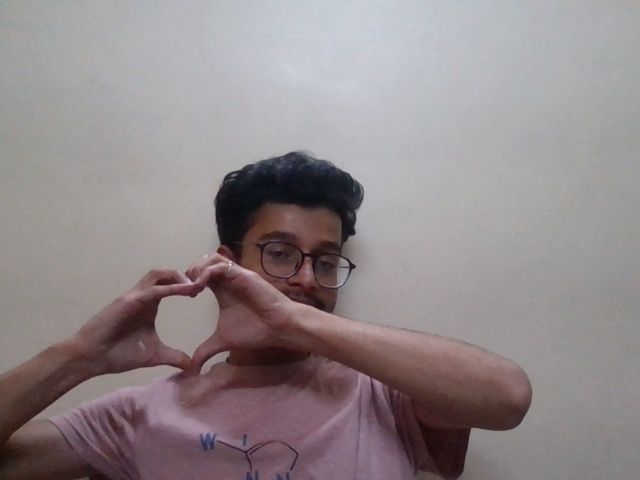silent-voice: (101, 251, 287, 396)
